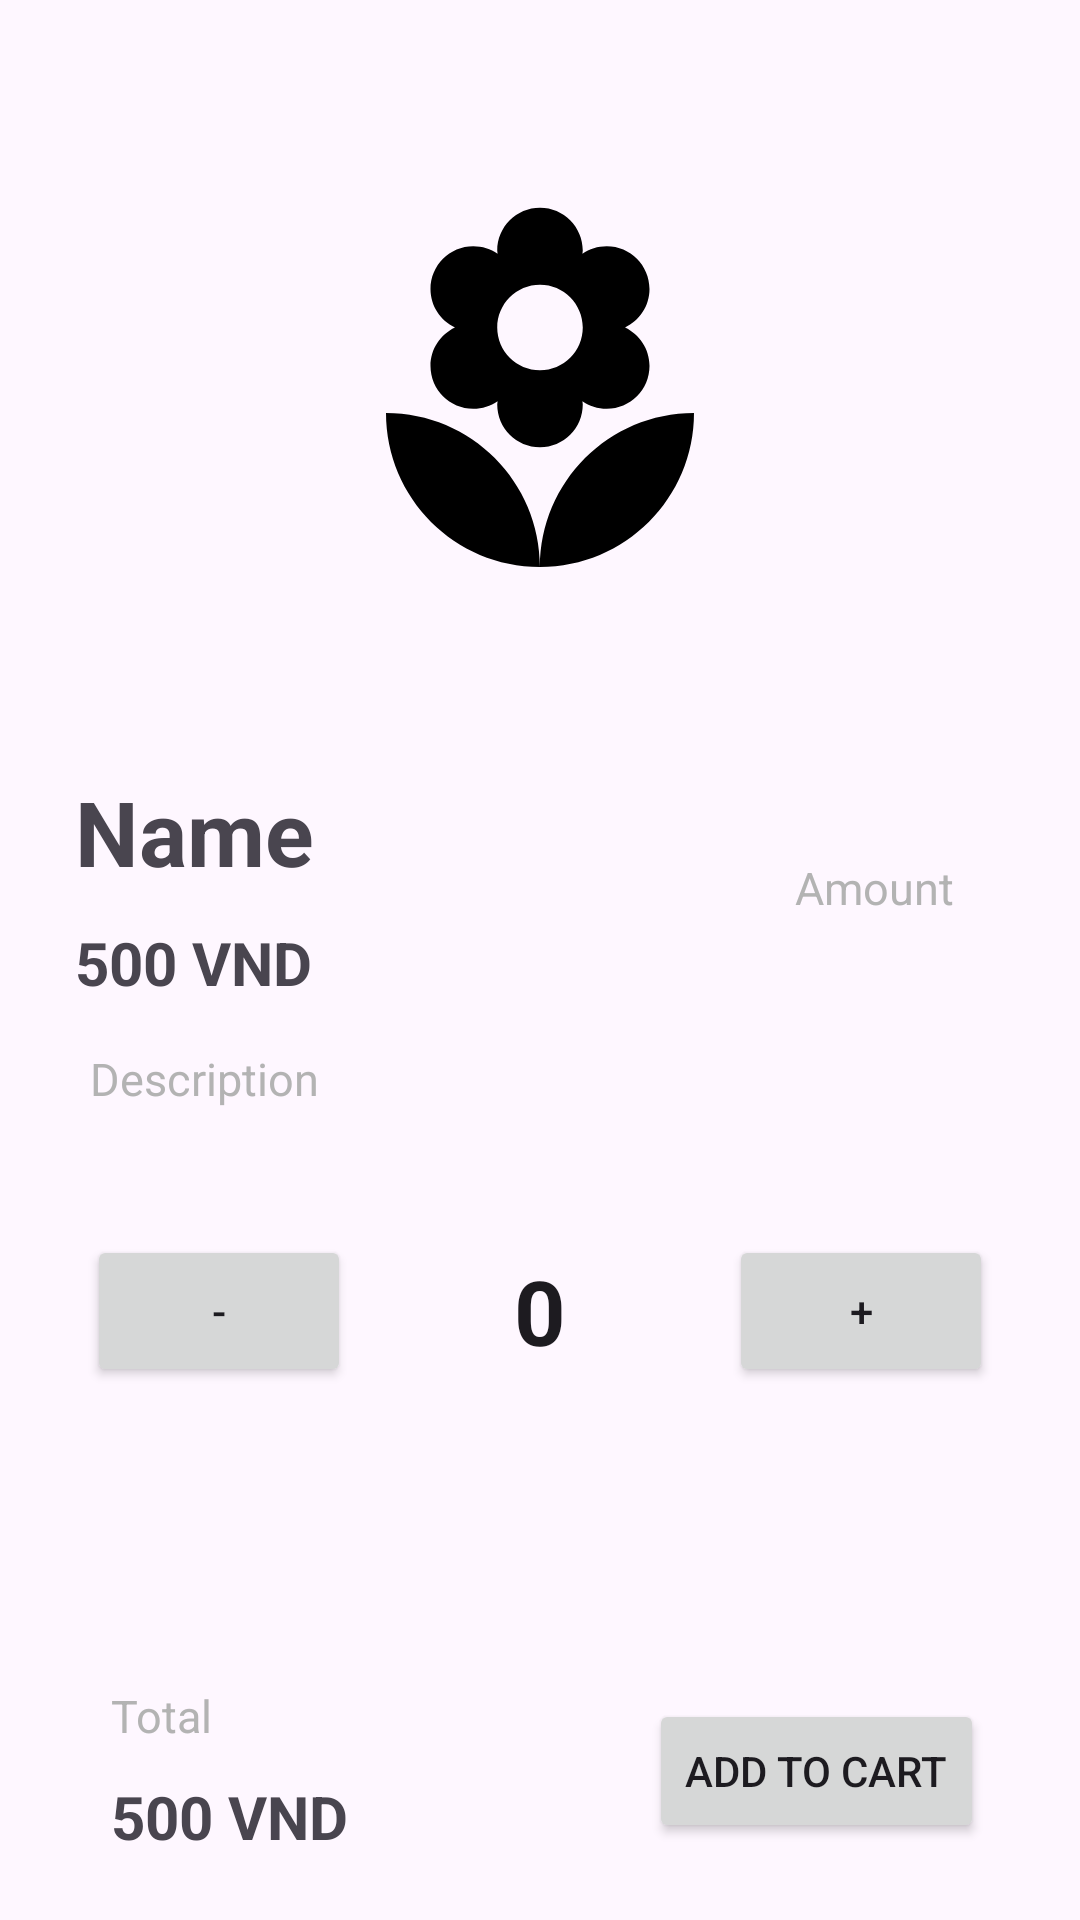

Icons on this 1080 × 1920 Android screen, each with the point to tap as (x=x, y=y):
flower: (x=540, y=387)
